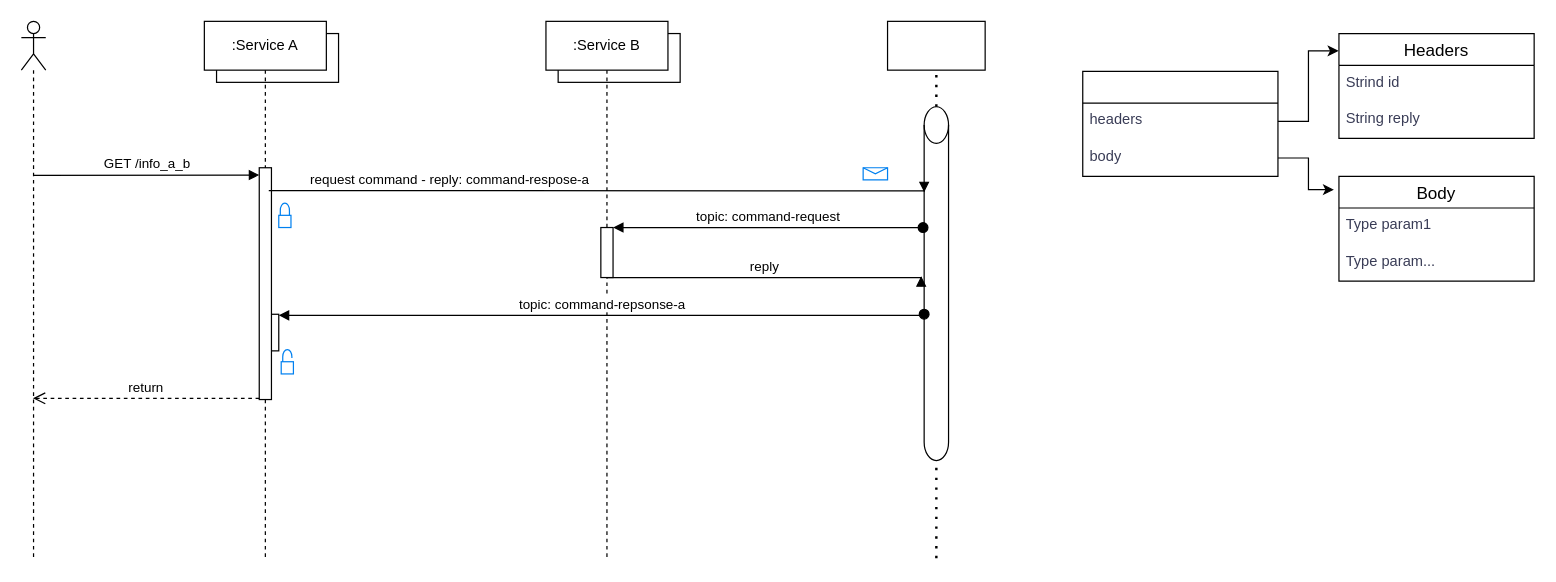
The diagram is 1556 pixels wide and 582 high, and some of its shapes have lost their labels. Here are the shapes that lost their labels. From the top down, the box of each, then its label:
(886, 20, 985, 70): Kafka
(1082, 70, 1278, 176): Message
